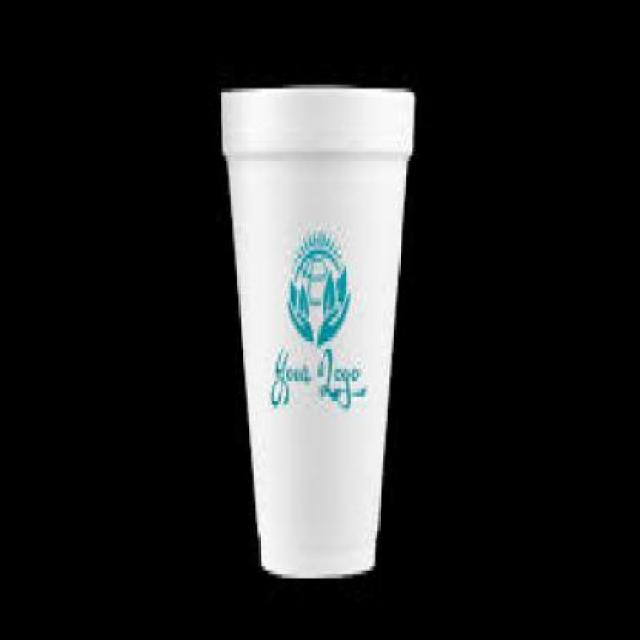PAPER: (216, 83, 413, 572)
